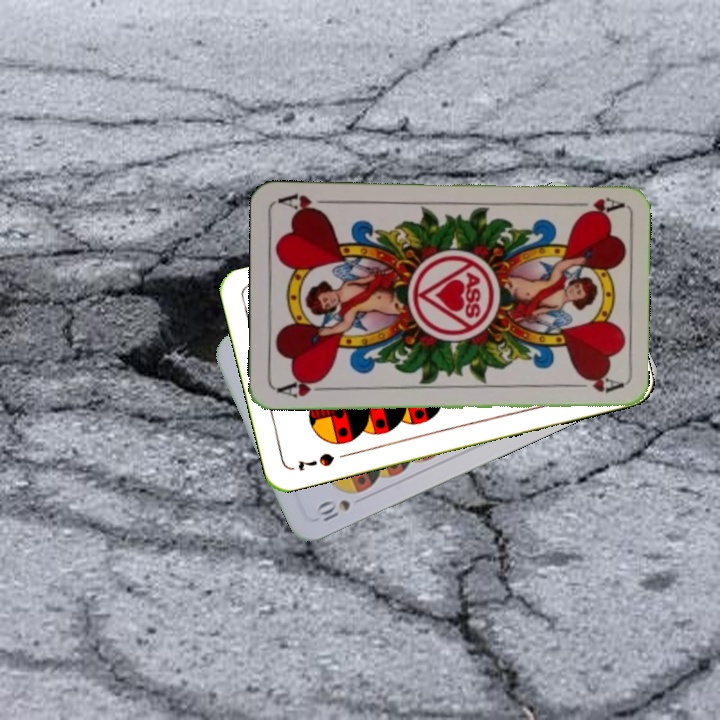HA: (273, 374, 332, 400), (565, 193, 624, 219)
S10: (312, 495, 354, 526)
S7: (294, 448, 337, 474)
